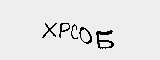Б: (93, 27, 115, 48)
О: (78, 26, 92, 46)
Р: (58, 19, 69, 41)
С: (70, 22, 80, 41)
Х: (39, 19, 59, 41)
